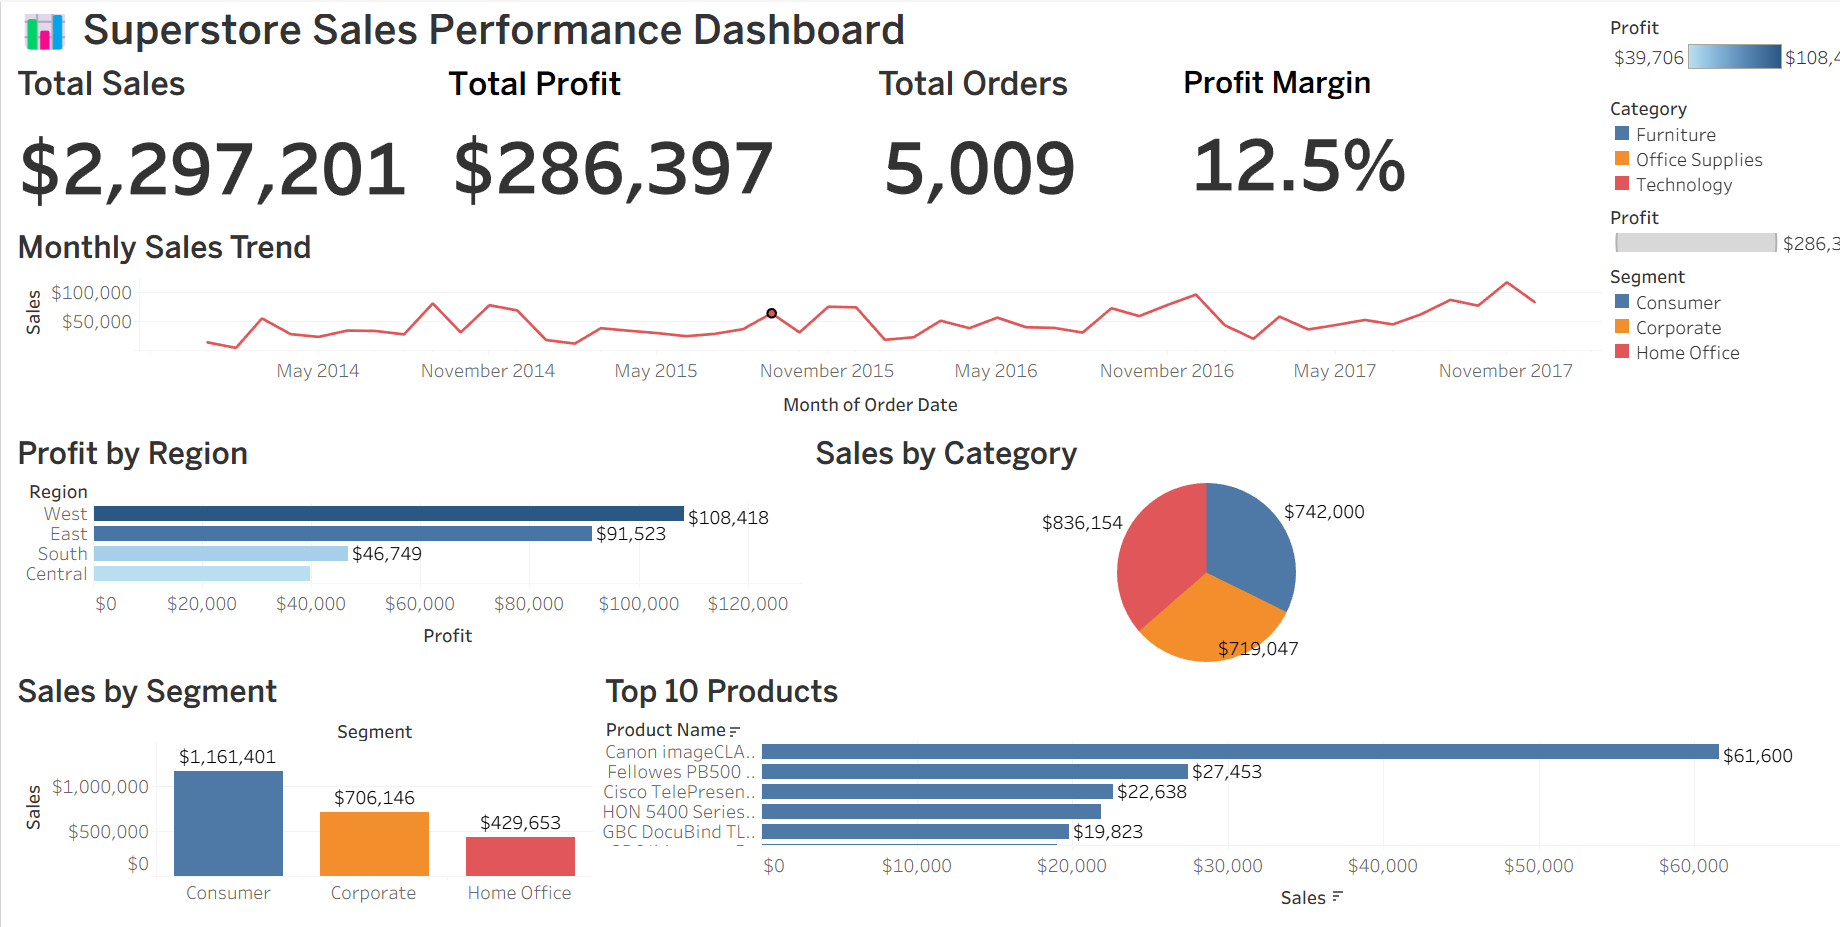

What the dashboard file says about the page in this screenshot:
{"tool":"tableau","page":{"name":"Superstore Sales Dashboard","canvas":[1000,1000],"units":"permille","ordinal":0},"visuals":[{"type":"title","box":[4.2,8.6,920.3,50.8]},{"type":"legend","title":"Profit by Region","param":"[federated.08s9ca80eqfdz41brgdmf1jg957m].[sum:Profit:qk]","box":[924.6,8.6,71.2,87.5]},{"type":"worksheet","title":"KPI-Total Sales","mark":"Automatic","box":[4.2,59.4,255.6,173.9]},{"type":"worksheet","title":"KPI-Total Profit","mark":"Automatic","box":[259.8,59.4,262,173.9]},{"type":"worksheet","title":"KPI-Total Orders","mark":"Automatic","box":[521.8,59.4,162.1,173.9]},{"type":"worksheet","title":"KPI-Profit Margin","mark":"Automatic","box":[683.9,59.4,240.7,173.9]},{"type":"legend","title":"Sales by Category","param":"[federated.08s9ca80eqfdz41brgdmf1jg957m].[none:Category:nk]","box":[924.6,96.1,71.2,117.7]},{"type":"legend","title":"Sales by Category","param":"[federated.08s9ca80eqfdz41brgdmf1jg957m].[sum:Profit:qk]","box":[924.6,213.8,71.2,63.7]},{"type":"worksheet","title":"Monthly Sales Trend","mark":"Line","rows":["Sales"],"cols":["Order Date"],"box":[4.2,238.1,920.3,221.9]},{"type":"legend","title":"Sales by Segment","param":"[federated.08s9ca80eqfdz41brgdmf1jg957m].[none:Segment:nk]","box":[924.6,277.5,71.2,117.7]},{"type":"worksheet","title":"Profit by Region","mark":"Automatic","rows":["Region"],"cols":["Profit"],"box":[4.2,460,460.1,257]},{"type":"worksheet","title":"Sales by Category","mark":"Pie","box":[464.4,460,460.2,257]},{"type":"worksheet","title":"Sales by Segment","mark":"Bar","rows":["Sales"],"cols":["Segment"],"box":[4.2,717.1,312.4,274.3]},{"type":"worksheet","title":"Top 10 Products","mark":"Automatic","rows":["Product Name"],"cols":["Sales"],"box":[316.7,717.1,679.1,274.3]}]}

Visuals, with their boxes on the dashboard's canvas, which has no fixed pixel size, in thousandths of its width and height (x1, y1, x2, y2). These are canvas units, not pixel positions in the 1840x927 screenshot, which may show the page scaled, cropped or inside an application window:
title: bbox=(4, 9, 924, 59)
"Profit by Region" legend: bbox=(925, 9, 996, 96)
"KPI-Total Sales" worksheet: bbox=(4, 59, 260, 233)
"KPI-Total Profit" worksheet: bbox=(260, 59, 522, 233)
"KPI-Total Orders" worksheet: bbox=(522, 59, 684, 233)
"KPI-Profit Margin" worksheet: bbox=(684, 59, 925, 233)
"Sales by Category" legend: bbox=(925, 96, 996, 214)
"Sales by Category" legend: bbox=(925, 214, 996, 278)
"Monthly Sales Trend" worksheet (Line marks): bbox=(4, 238, 924, 460)
"Sales by Segment" legend: bbox=(925, 278, 996, 395)
"Profit by Region" worksheet: bbox=(4, 460, 464, 717)
"Sales by Category" worksheet (Pie marks): bbox=(464, 460, 925, 717)
"Sales by Segment" worksheet (Bar marks): bbox=(4, 717, 317, 991)
"Top 10 Products" worksheet: bbox=(317, 717, 996, 991)
